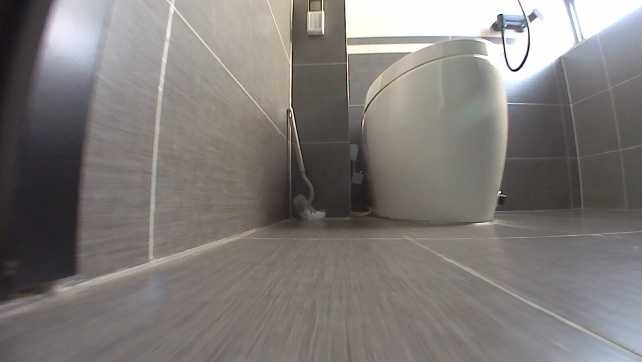toilet: (357, 34, 510, 225)
